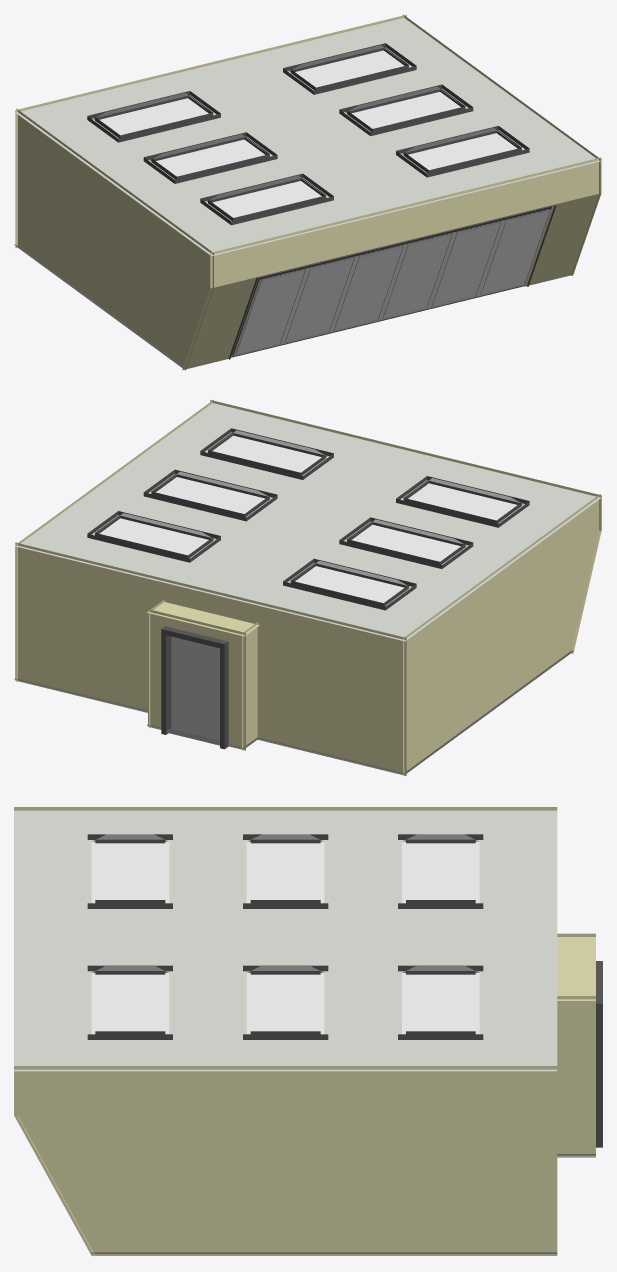
The model's file is blankRoom.glb.
3 renders of one model, top to bottom at view 1: azimuth 30°, elevation 25°; view 2: azimuth 150°, elevation 25°; view 3: azimuth 270°, elevation 25°, orthographic. The views are drawn at different scales.
Parts seen in each view (by area): view 1: brCeiling, brWWall, brLights, brWindow, brSWall, brNWall, brFloor, brEWall; view 2: brCeiling, brNWall, brWWall, brLights, brDoorway, brFloor, doorFrame, brSWall, brEWall; view 3: brCeiling, brEWall, brLights, brDoorway, brWWall, doorFrame, brFloor.
Boxes of the visible parts, x1,y1,x2,y2 form: brCeiling: (14, 18, 602, 256); brWWall: (16, 108, 213, 370); brLights: (87, 43, 529, 225); brWindow: (228, 204, 556, 359); brSWall: (182, 157, 601, 370); brNWall: (15, 14, 406, 248); brFloor: (14, 244, 574, 368); brEWall: (403, 14, 600, 275); brCeiling: (14, 403, 602, 641); brNWall: (15, 542, 406, 775); brWWall: (403, 494, 600, 775); brLights: (87, 428, 529, 610); brDoorway: (147, 599, 259, 750); brFloor: (14, 636, 573, 774); doorFrame: (161, 626, 228, 749); brSWall: (210, 400, 601, 653); brEWall: (16, 400, 213, 681); brCeiling: (14, 810, 557, 1071); brEWall: (14, 1066, 557, 1255); brLights: (87, 834, 483, 1039); brDoorway: (557, 933, 595, 1157); brWWall: (14, 807, 557, 810); doorFrame: (596, 961, 602, 1147); brFloor: (91, 1154, 595, 1253).
Bounding box in the file's own units: 8 × 2.85 × 7.59.
